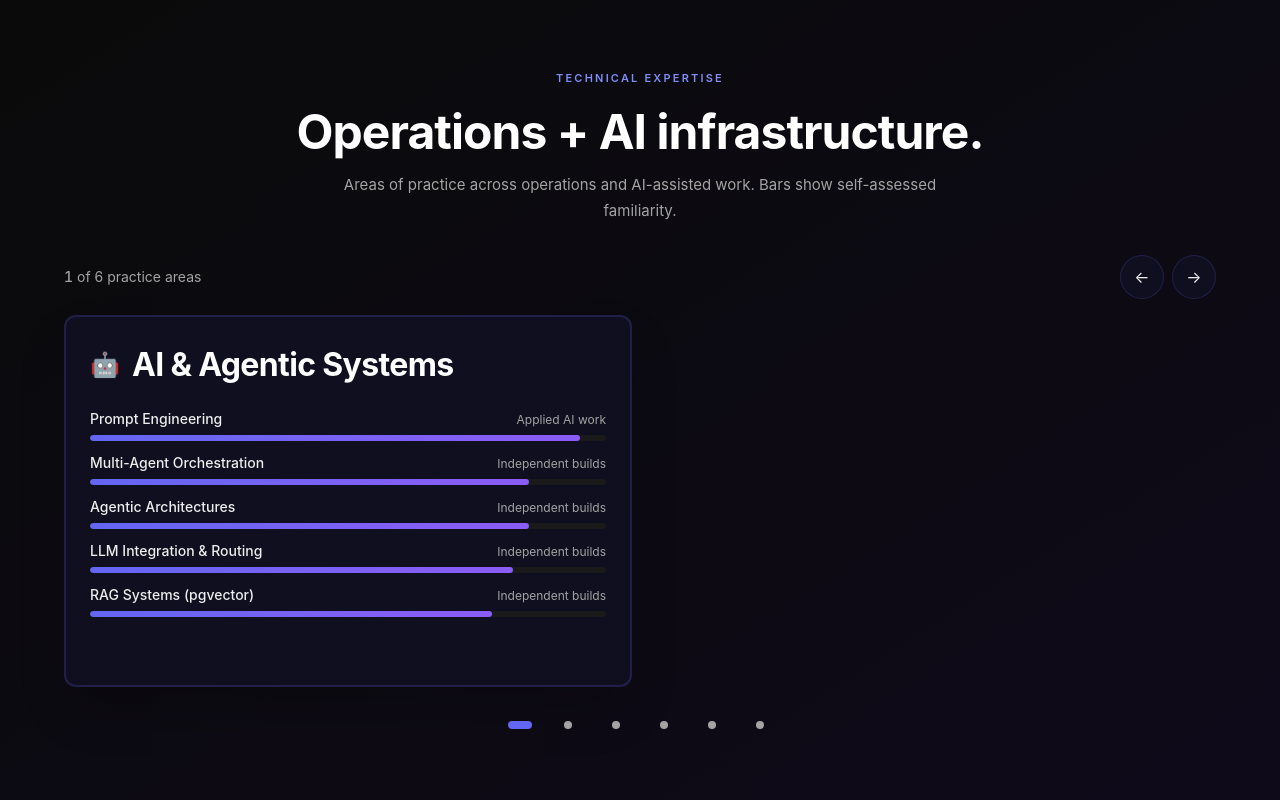
it: SkillsVisualization carousel › respects the system reduced-motion preference while retaining navigation
The width and height of the screenshot is (1280, 800).
Expected: the heading "AI & Agentic Systems" is shown, [132,346,454,384]
Click the button named "Next practice areas": (1194, 277) [1172,255,1216,299]
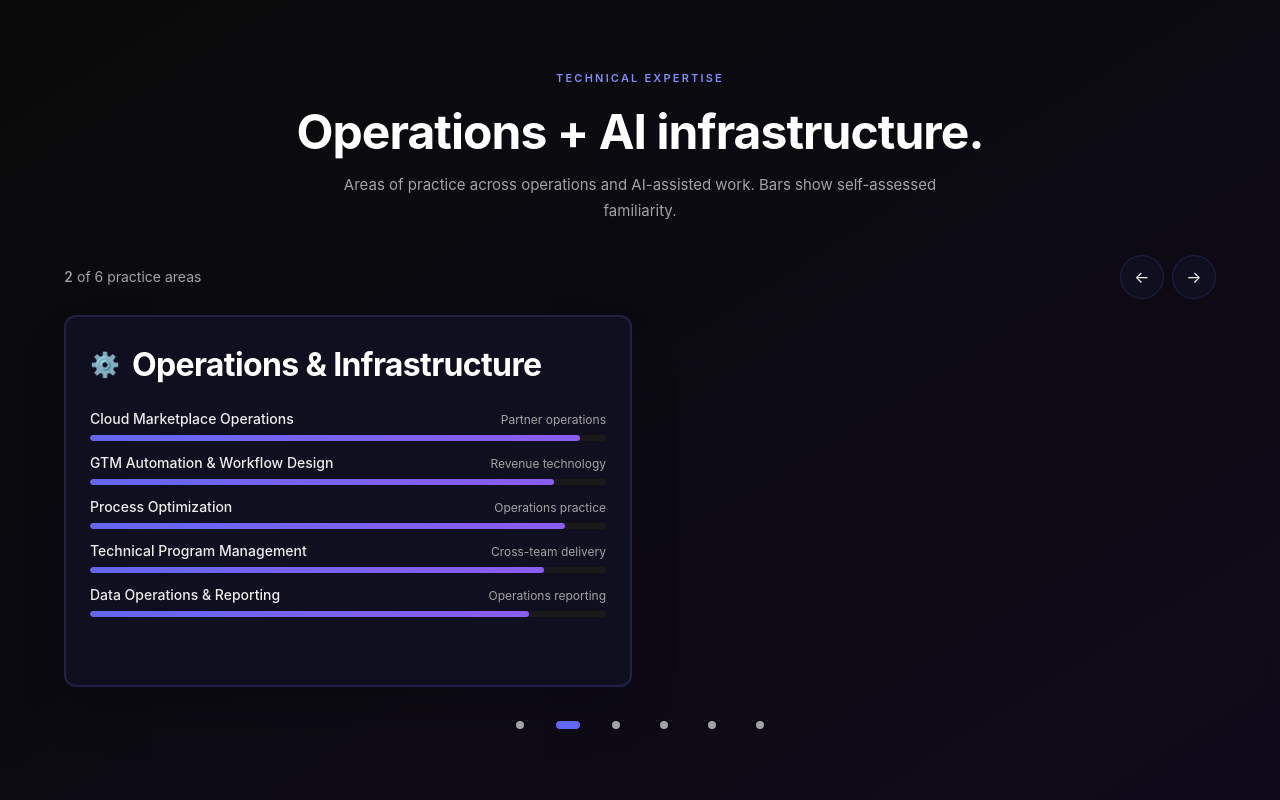
Expected: the heading "Operations & Infrastructure" is shown, [132,346,541,384]
